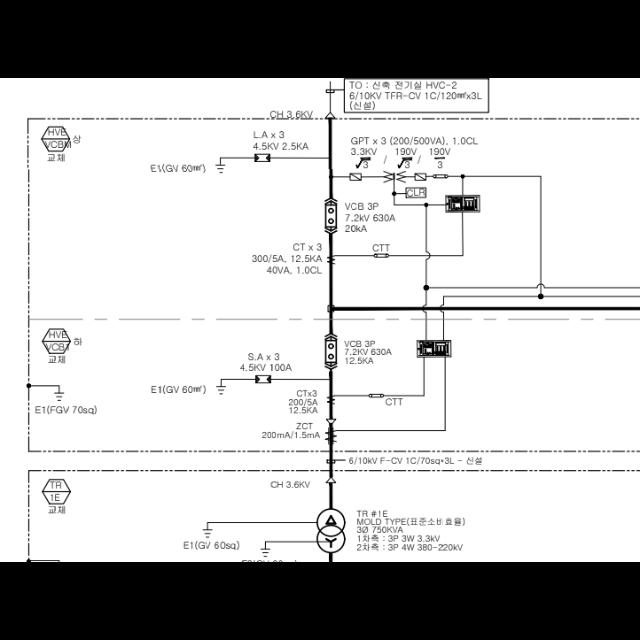CB: (326, 205, 336, 228), (326, 340, 336, 362)
CH: (325, 112, 335, 120), (326, 478, 336, 484), (326, 420, 336, 424)
CT: (326, 255, 336, 265), (327, 396, 335, 404)
GND: (214, 164, 226, 174), (216, 386, 228, 396), (201, 530, 213, 540), (260, 549, 272, 559), (54, 392, 64, 402)
LA: (253, 154, 270, 162), (255, 376, 271, 384)
PT: (384, 170, 404, 183)
ZCT: (324, 428, 338, 444)
